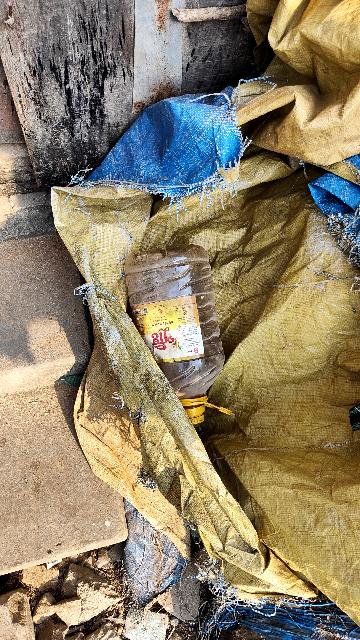bottle: (114, 246, 238, 436)
